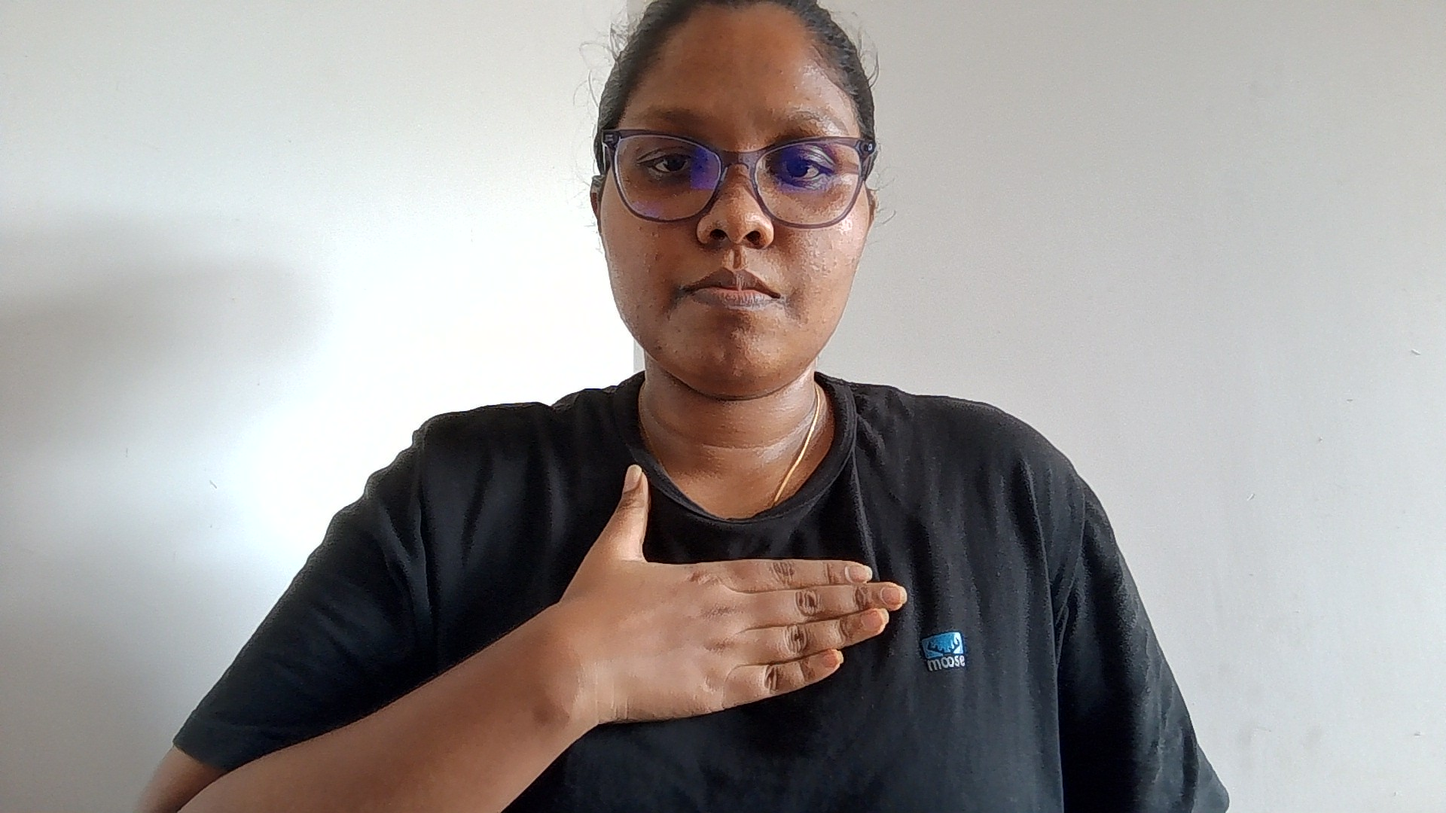Please: (491, 465, 1032, 734)
